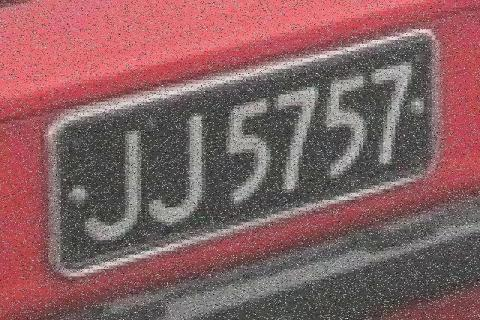LicensePlate: (49, 28, 444, 282)
